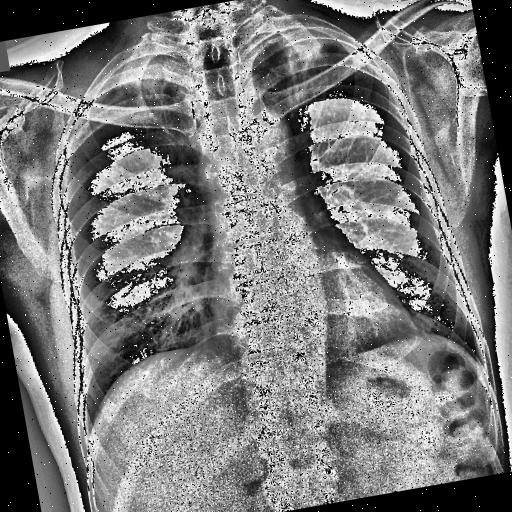11- Pleural thickening: (248, 17, 364, 73), (82, 48, 188, 100), (86, 45, 190, 94), (240, 15, 346, 61)
13- Pulmonary fibrosis: (100, 74, 202, 174), (242, 18, 336, 123), (251, 40, 340, 142), (104, 50, 182, 134), (273, 34, 326, 132), (124, 69, 182, 155)
7- Lung Opacity: (242, 18, 336, 123), (104, 50, 182, 134)
